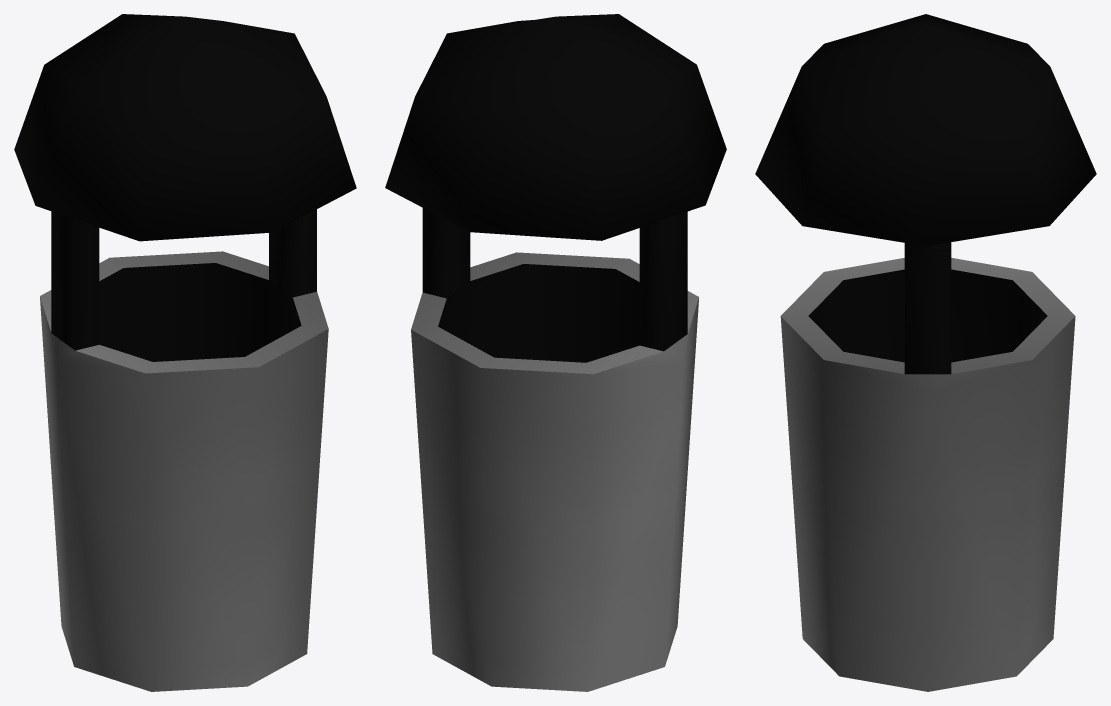
Rendered from Rubbish_2.fbx.
3 renders of one model, left to right at view 1: azimuth 30°, elevation 25°; view 2: azimuth 150°, elevation 25°; view 3: azimuth 270°, elevation 25°, orthographic.
Visible parts, largest first — view 1: Rubbish_2; view 2: Rubbish_2; view 3: Rubbish_2.
Boxes of the visible parts, <box> form: Rubbish_2: <box>14,14,356,691</box>; Rubbish_2: <box>385,14,726,691</box>; Rubbish_2: <box>755,14,1096,691</box>.
Bounding box in the file's own units: 68.6 × 136 × 68.6.
1 material, 1 textured.
